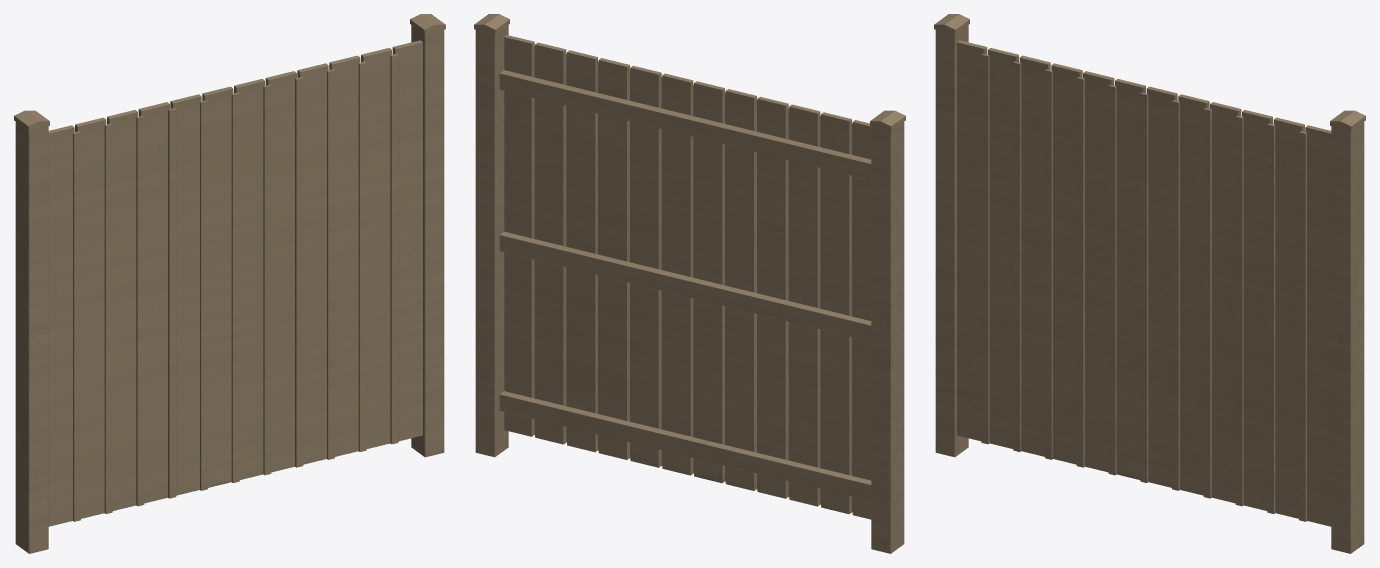
Rendered from wood_fence_plank.glb.
3 views of the same model, side by side, from view 1: azimuth 30°, elevation 25°; view 2: azimuth 150°, elevation 25°; view 3: azimuth 330°, elevation 25° (orthographic).
Visible parts, largest first — view 1: WoodFencePlank; view 2: WoodFencePlank; view 3: WoodFencePlank.
Part boxes in pixels (x1,y1,x2,y2): WoodFencePlank: [14, 14, 445, 553]; WoodFencePlank: [474, 14, 905, 553]; WoodFencePlank: [934, 14, 1365, 553].
Size of what is drawn, in the model's own units: 2.11 by 2.08 by 0.128.
1 material, 1 textured.
